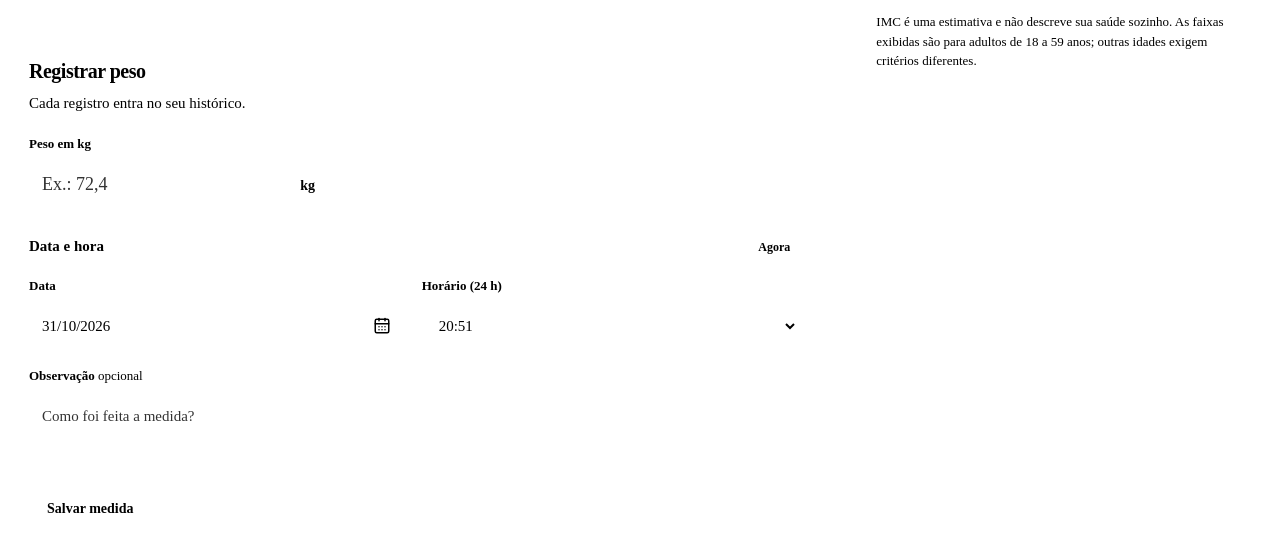
confirmação experimental do formulário de peso › mede validação recusada sem persistir ou anunciar sucesso
(page scrolled)
Type "-1" into the field labelled "Peso em kg" at (210, 184), box [29,160,390,208]
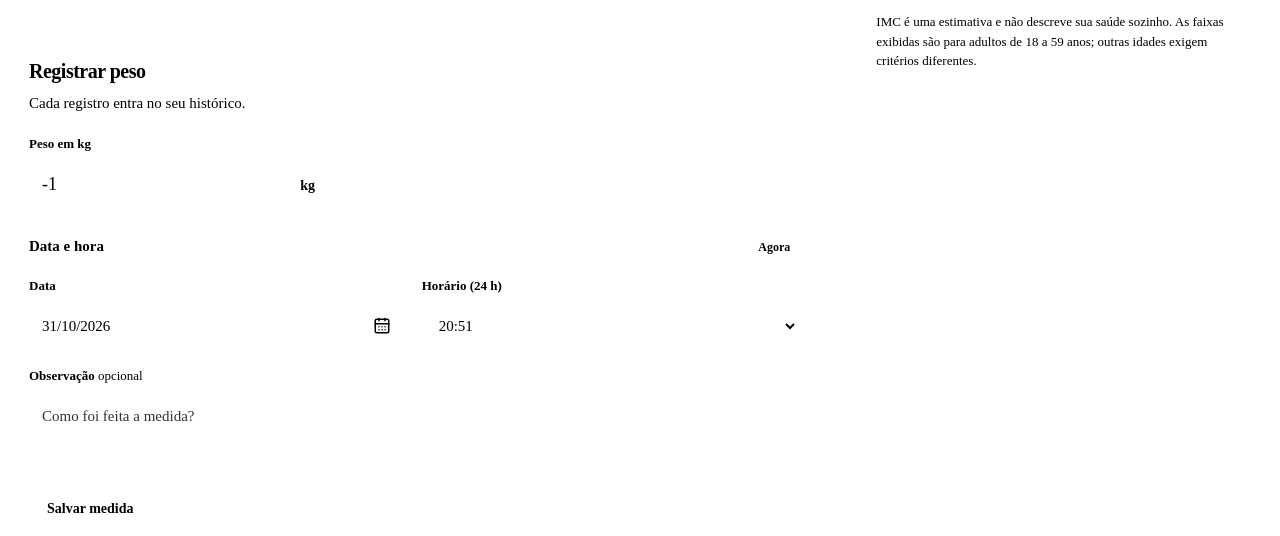
Click the button "Salvar medida" at (90, 510), box [29,486,152,534]
(page scrolled)
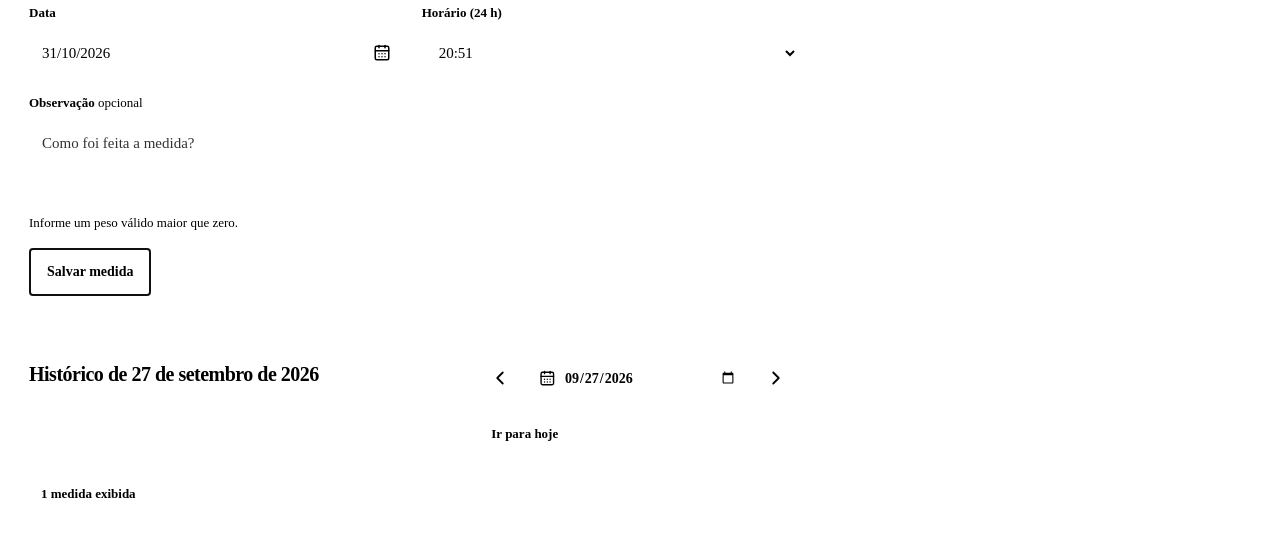
Result: the message "Informe um peso válido maior que zero." is shown at [29,214,238,230]
